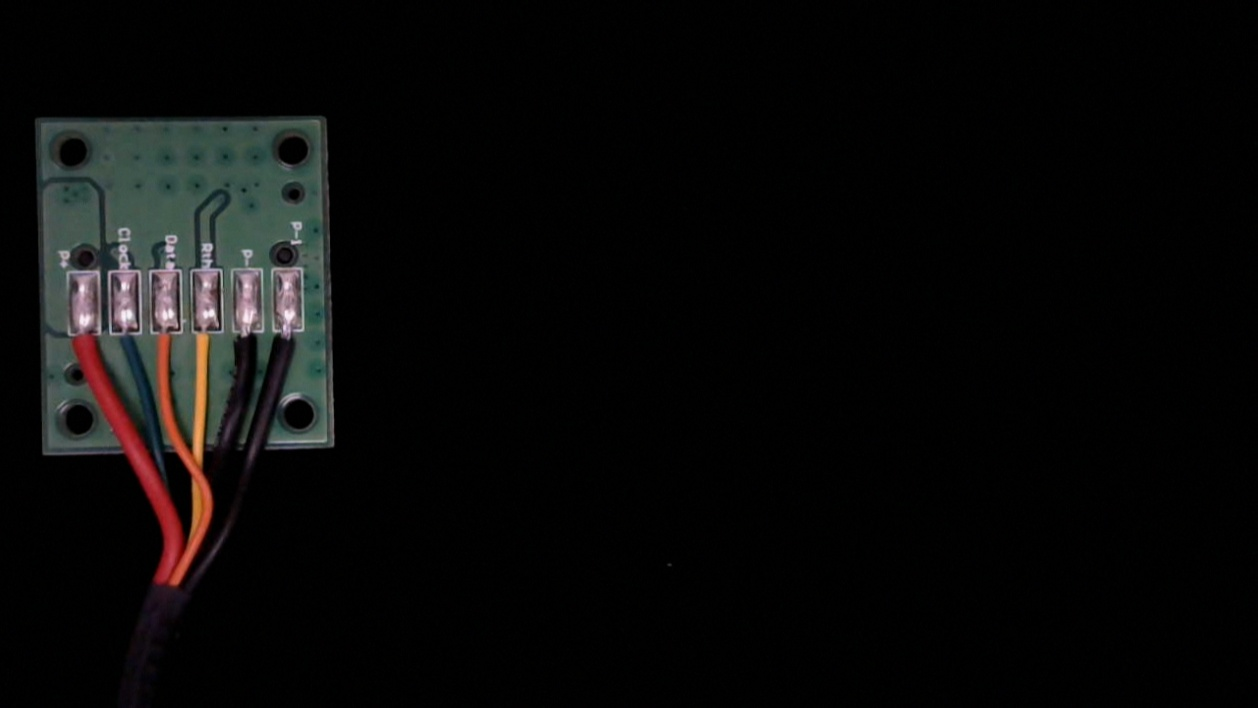Black: (231, 317, 263, 379)
Black1: (273, 317, 307, 383)
Green: (107, 315, 143, 384)
Orange: (149, 316, 182, 387)
Red: (68, 315, 104, 384)
Yellow: (190, 315, 226, 388)
